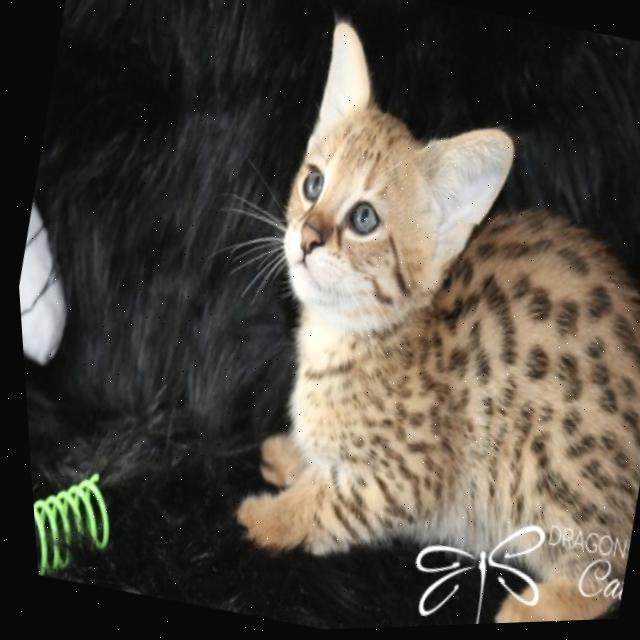Savannah: (176, 1, 640, 635)
